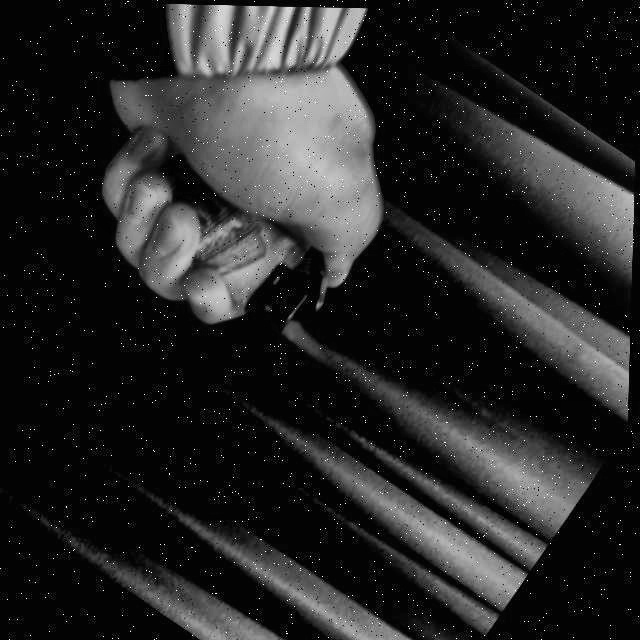Fire: (278, 311, 348, 371)
